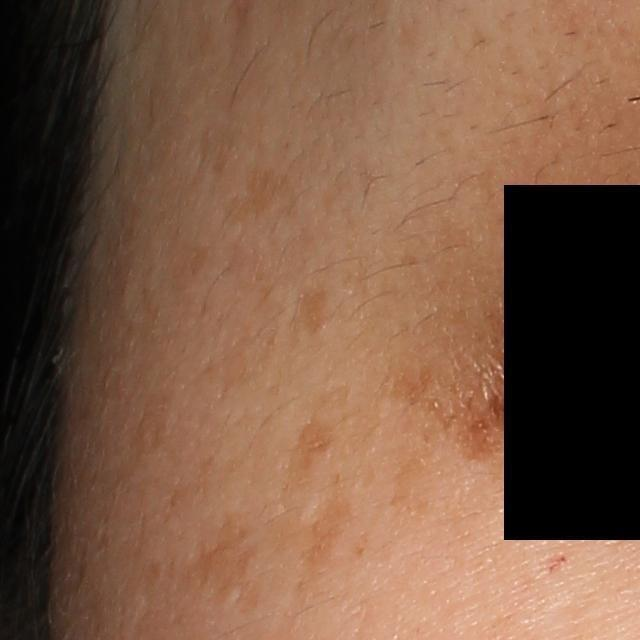melasma: (384, 343, 532, 468), (175, 512, 268, 618), (197, 326, 279, 404), (220, 154, 296, 228), (380, 448, 437, 526), (311, 485, 355, 578), (289, 411, 346, 482), (296, 281, 336, 347)
